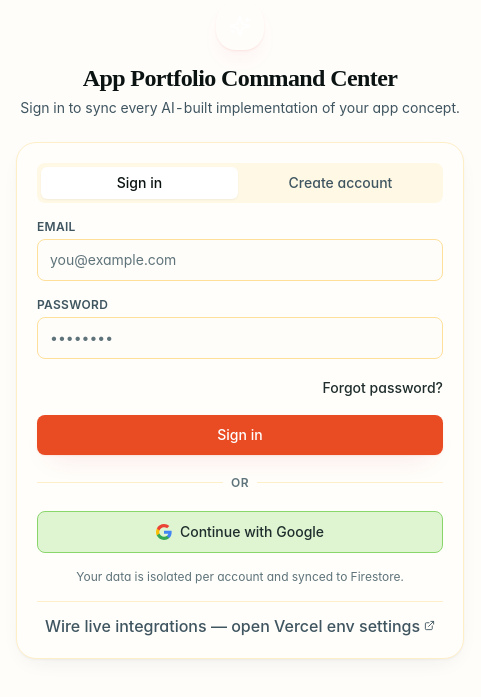
Test: AuthGate — forgot password flow › hides the Forgot password? link in sign-up mode
This screenshot has width=481, height=697.
Step 1. Click the button "Create account" → (340, 182), box left=242, top=166, right=439, bottom=198
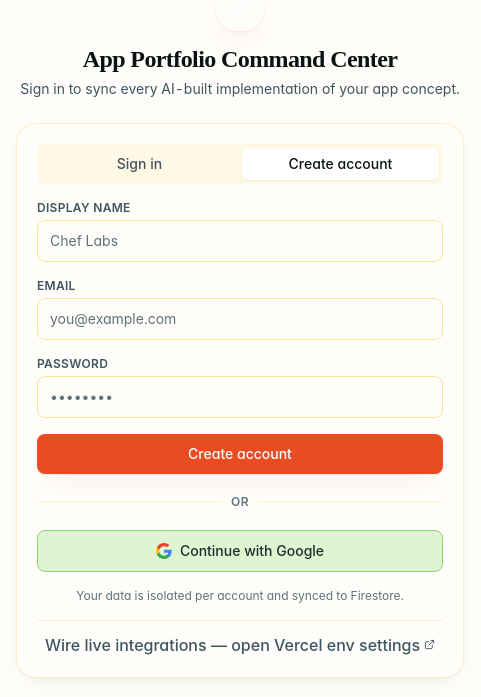
Check: the button "Forgot password?" is gone
